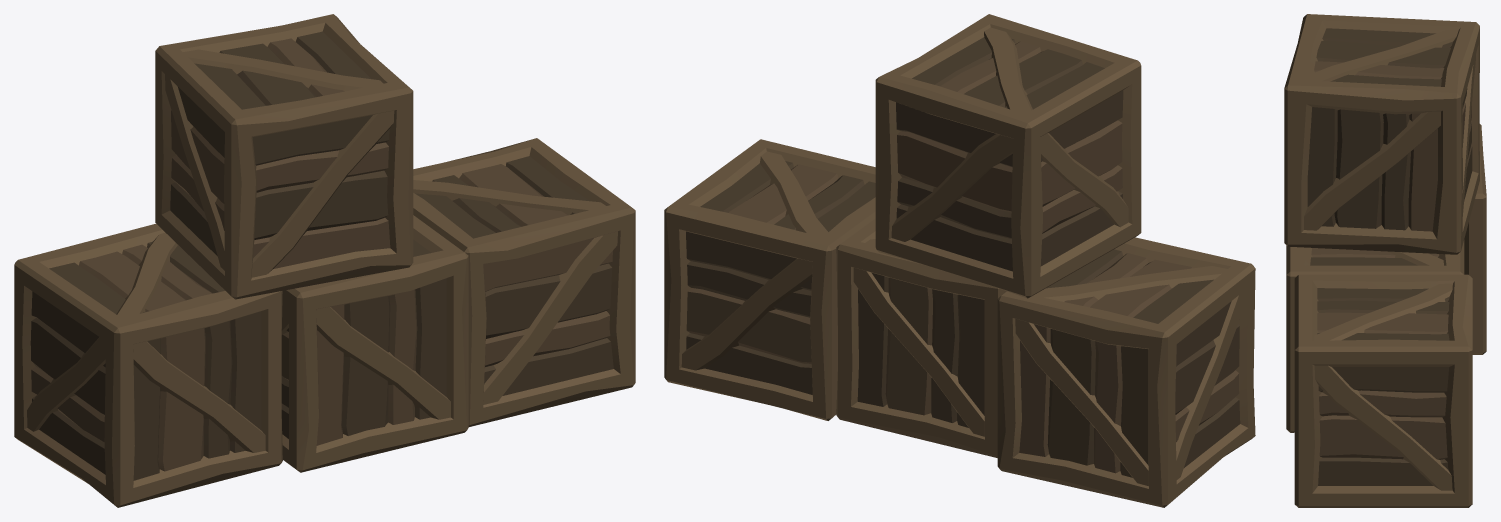
File: env_crates.gltf
3 views of the same model, side by side, from view 1: azimuth 30°, elevation 25°; view 2: azimuth 150°, elevation 25°; view 3: azimuth 270°, elevation 25° (orthographic). The views are drawn at different scales.
Parts seen in each view (by area): view 1: env_crates; view 2: env_crates; view 3: env_crates.
Part boxes in pixels (x1,y1,x2,y2): env_crates: (14,14,635,507); env_crates: (664,14,1255,507); env_crates: (1284,14,1486,507).
Bounding box in the file's own units: 3.25 × 2.14 × 1.22.
Materials: 1 (1 with a texture image).
